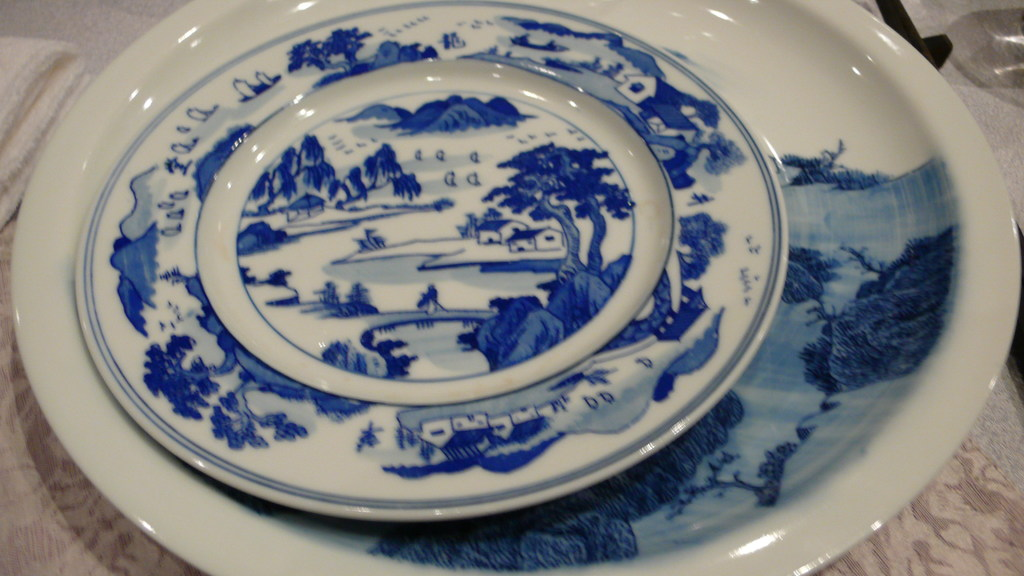plate: (10, 0, 1022, 575), (72, 0, 790, 524)
